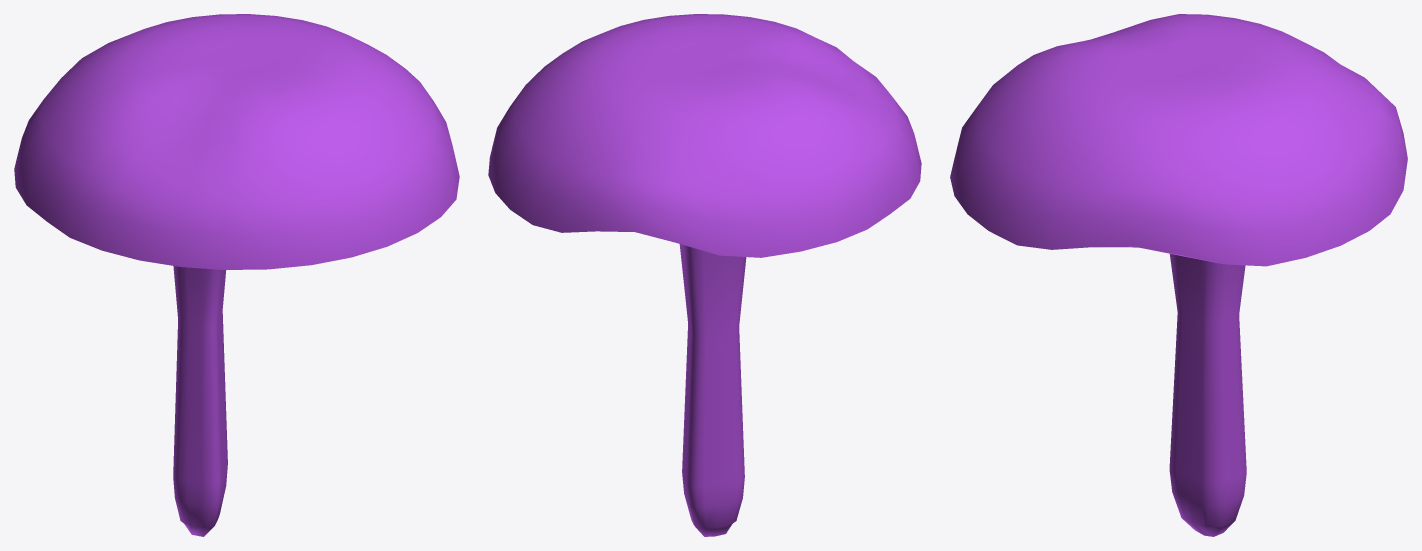
The model's file is Seta Roja.fbx.
3 views of the same model, side by side, from view 1: azimuth 30°, elevation 25°; view 2: azimuth 150°, elevation 25°; view 3: azimuth 270°, elevation 25° (orthographic). The views are drawn at different scales.
Parts seen in each view (by area): view 1: Sphere.003; view 2: Sphere.003; view 3: Sphere.003.
Boxes of the visible parts, x1,y1,x2,y2 form: Sphere.003: (14, 14, 459, 536); Sphere.003: (488, 14, 921, 536); Sphere.003: (950, 14, 1407, 536).
Bounding box in the file's own units: 26.62 × 32.07 × 27.4.
